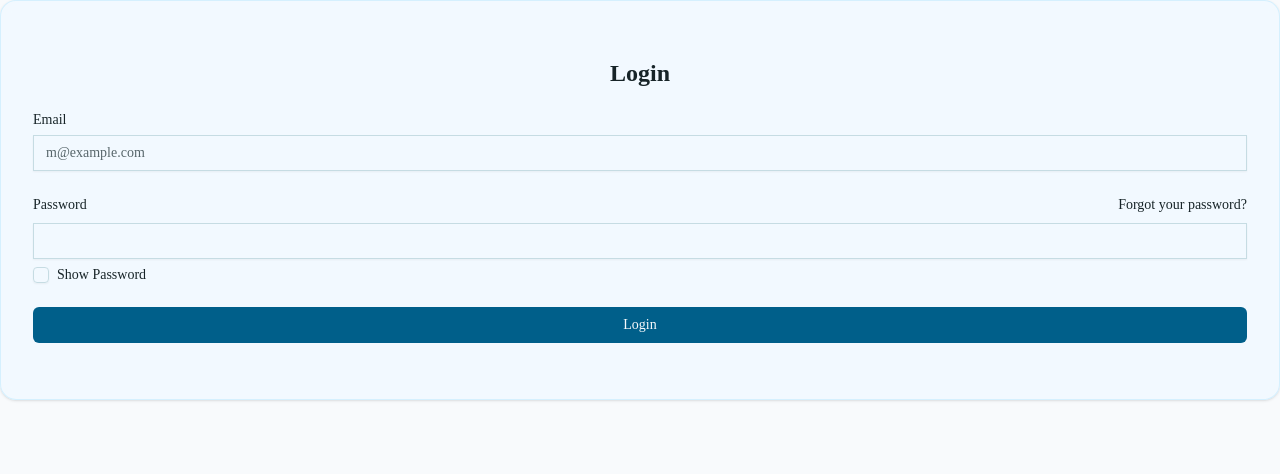
it: LoginForm › should clear email error when user starts typing
Submit the form with test id "login-form"
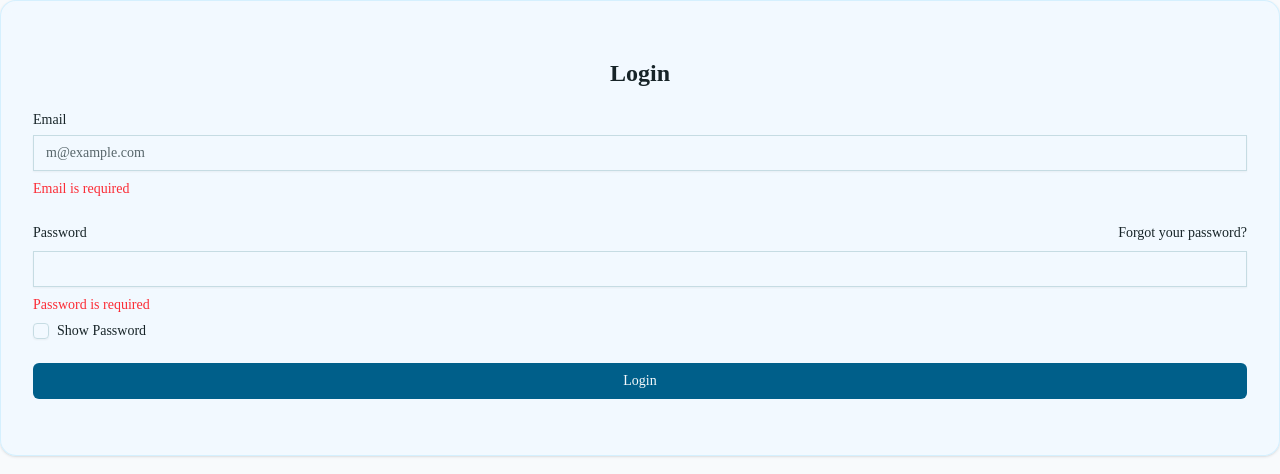
Result: the text "Email is required" is shown at [33, 181, 129, 196]
Type "test@example.com" into the field labelled "Email". click: (640, 153)
box: [33, 135, 1247, 171]
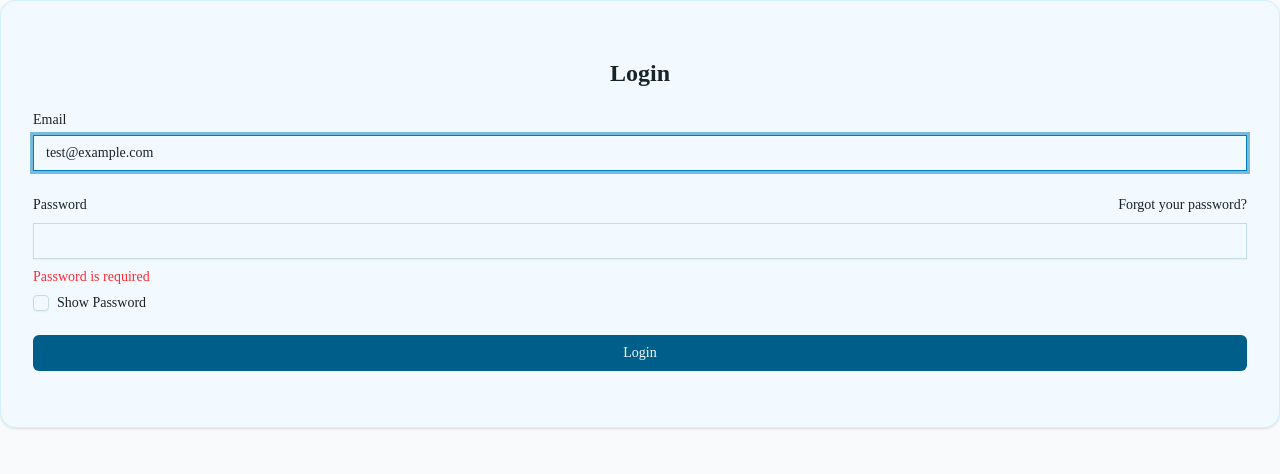
Result: the text "Email is required" is gone
